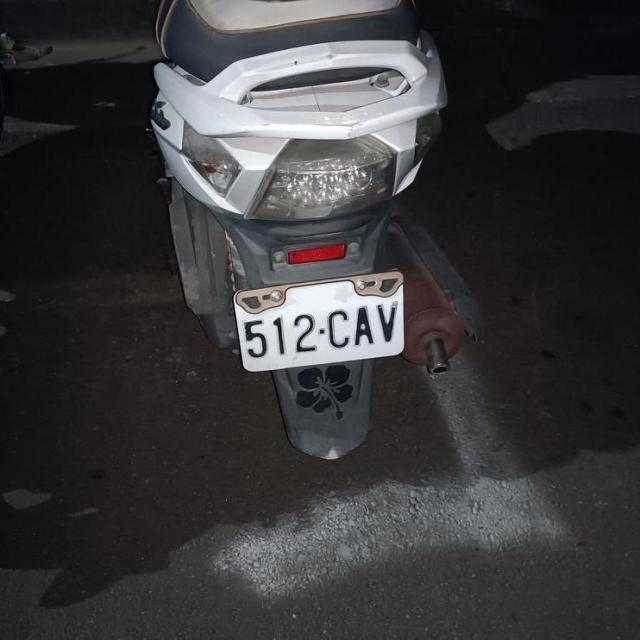W: (230, 268, 412, 376)
